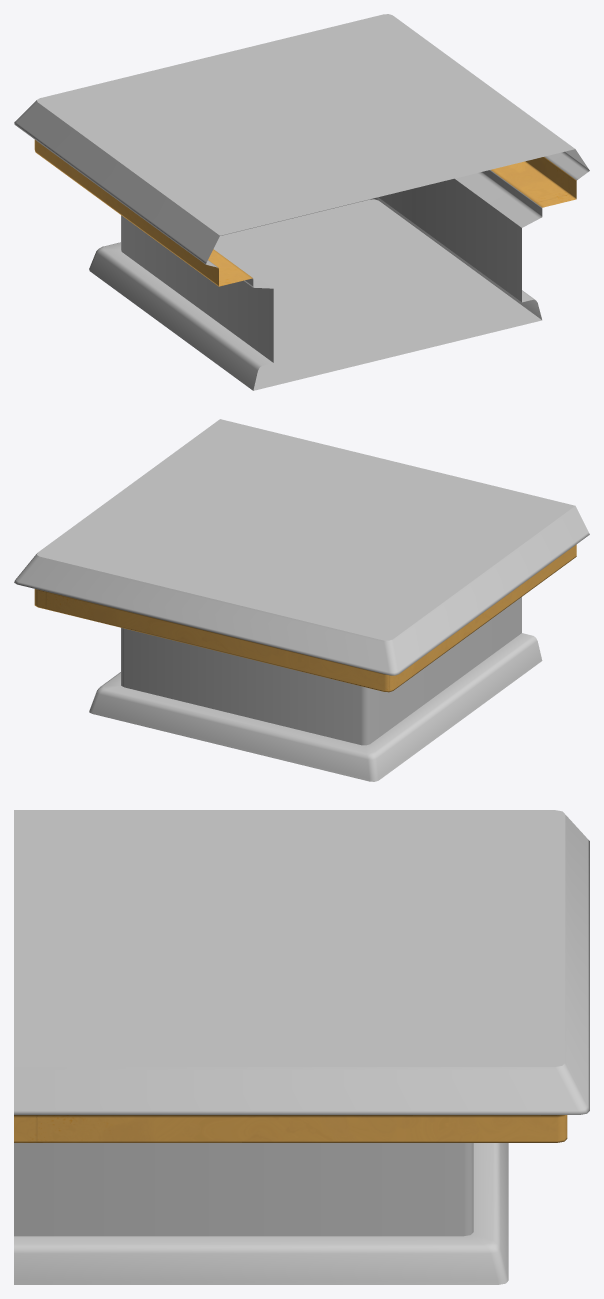
File: SM_Beam_02_End.fbx
3 views of the same model, one above another, from view 1: azimuth 30°, elevation 25°; view 2: azimuth 150°, elevation 25°; view 3: azimuth 270°, elevation 25° (orthographic). The views are drawn at different scales.
Visible parts, largest first — view 1: SM_Beam_02_End_LOD0; view 2: SM_Beam_02_End_LOD0; view 3: SM_Beam_02_End_LOD0.
Boxes of the visible parts, x1,y1,x2,y2 form: SM_Beam_02_End_LOD0: [14, 14, 589, 390]; SM_Beam_02_End_LOD0: [14, 419, 589, 781]; SM_Beam_02_End_LOD0: [14, 810, 589, 1284].
Bounding box in the file's own units: 266 × 233 × 108.
